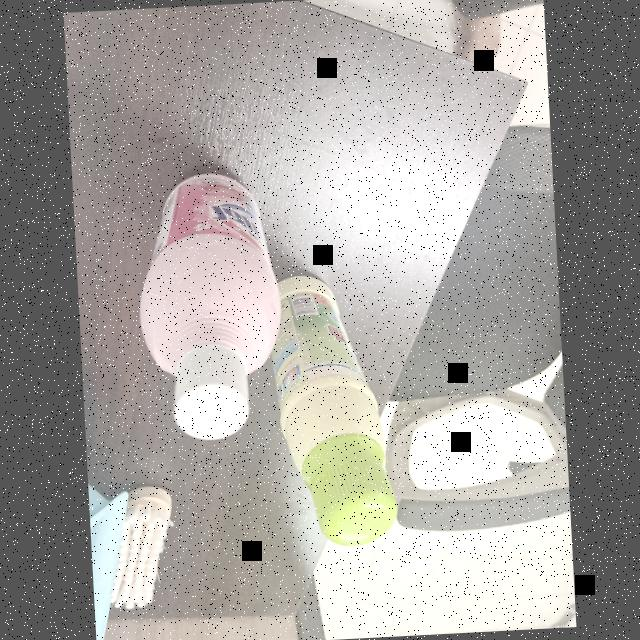chemical_plastic_bottle: (132, 160, 286, 446), (268, 262, 408, 554)
